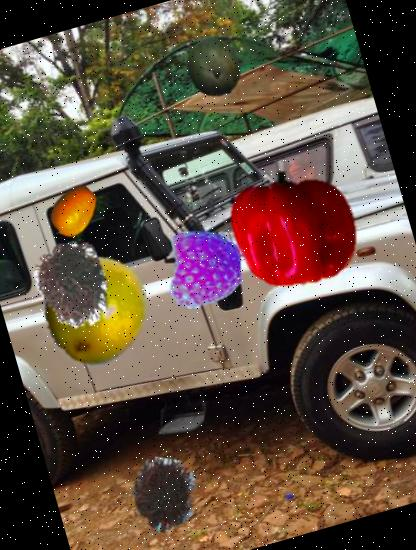Kumquats: (42, 179, 106, 242)
Mango: (175, 30, 250, 104)
Maracuja: (23, 238, 162, 376)
Pepper: (214, 148, 374, 308)
Rambutan: (17, 230, 127, 340), (120, 449, 212, 541)
Raspberry: (157, 220, 253, 316)
